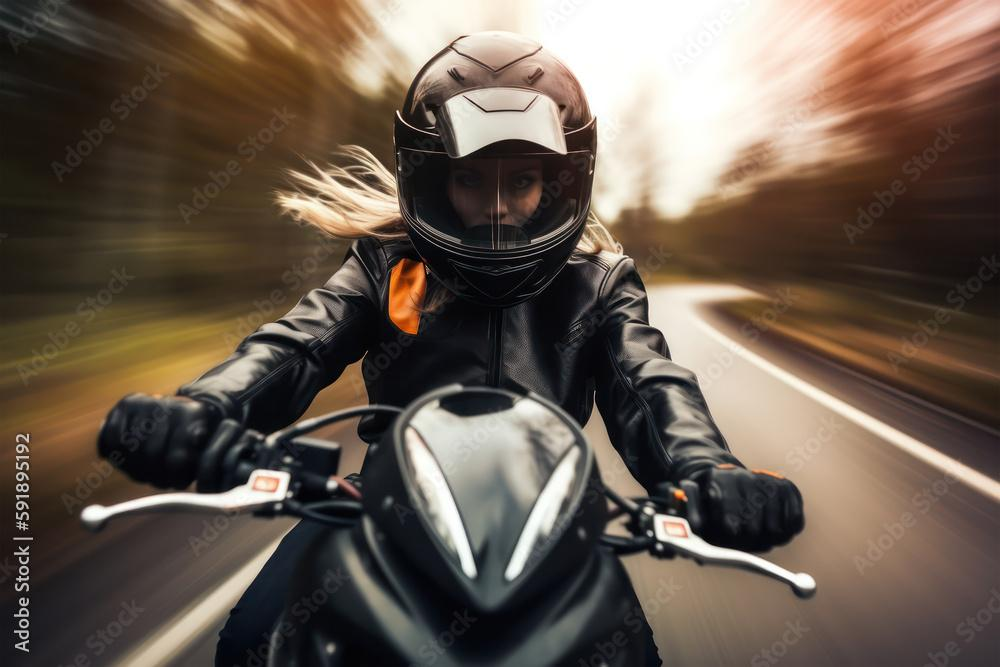helmet: (392, 28, 599, 310)
